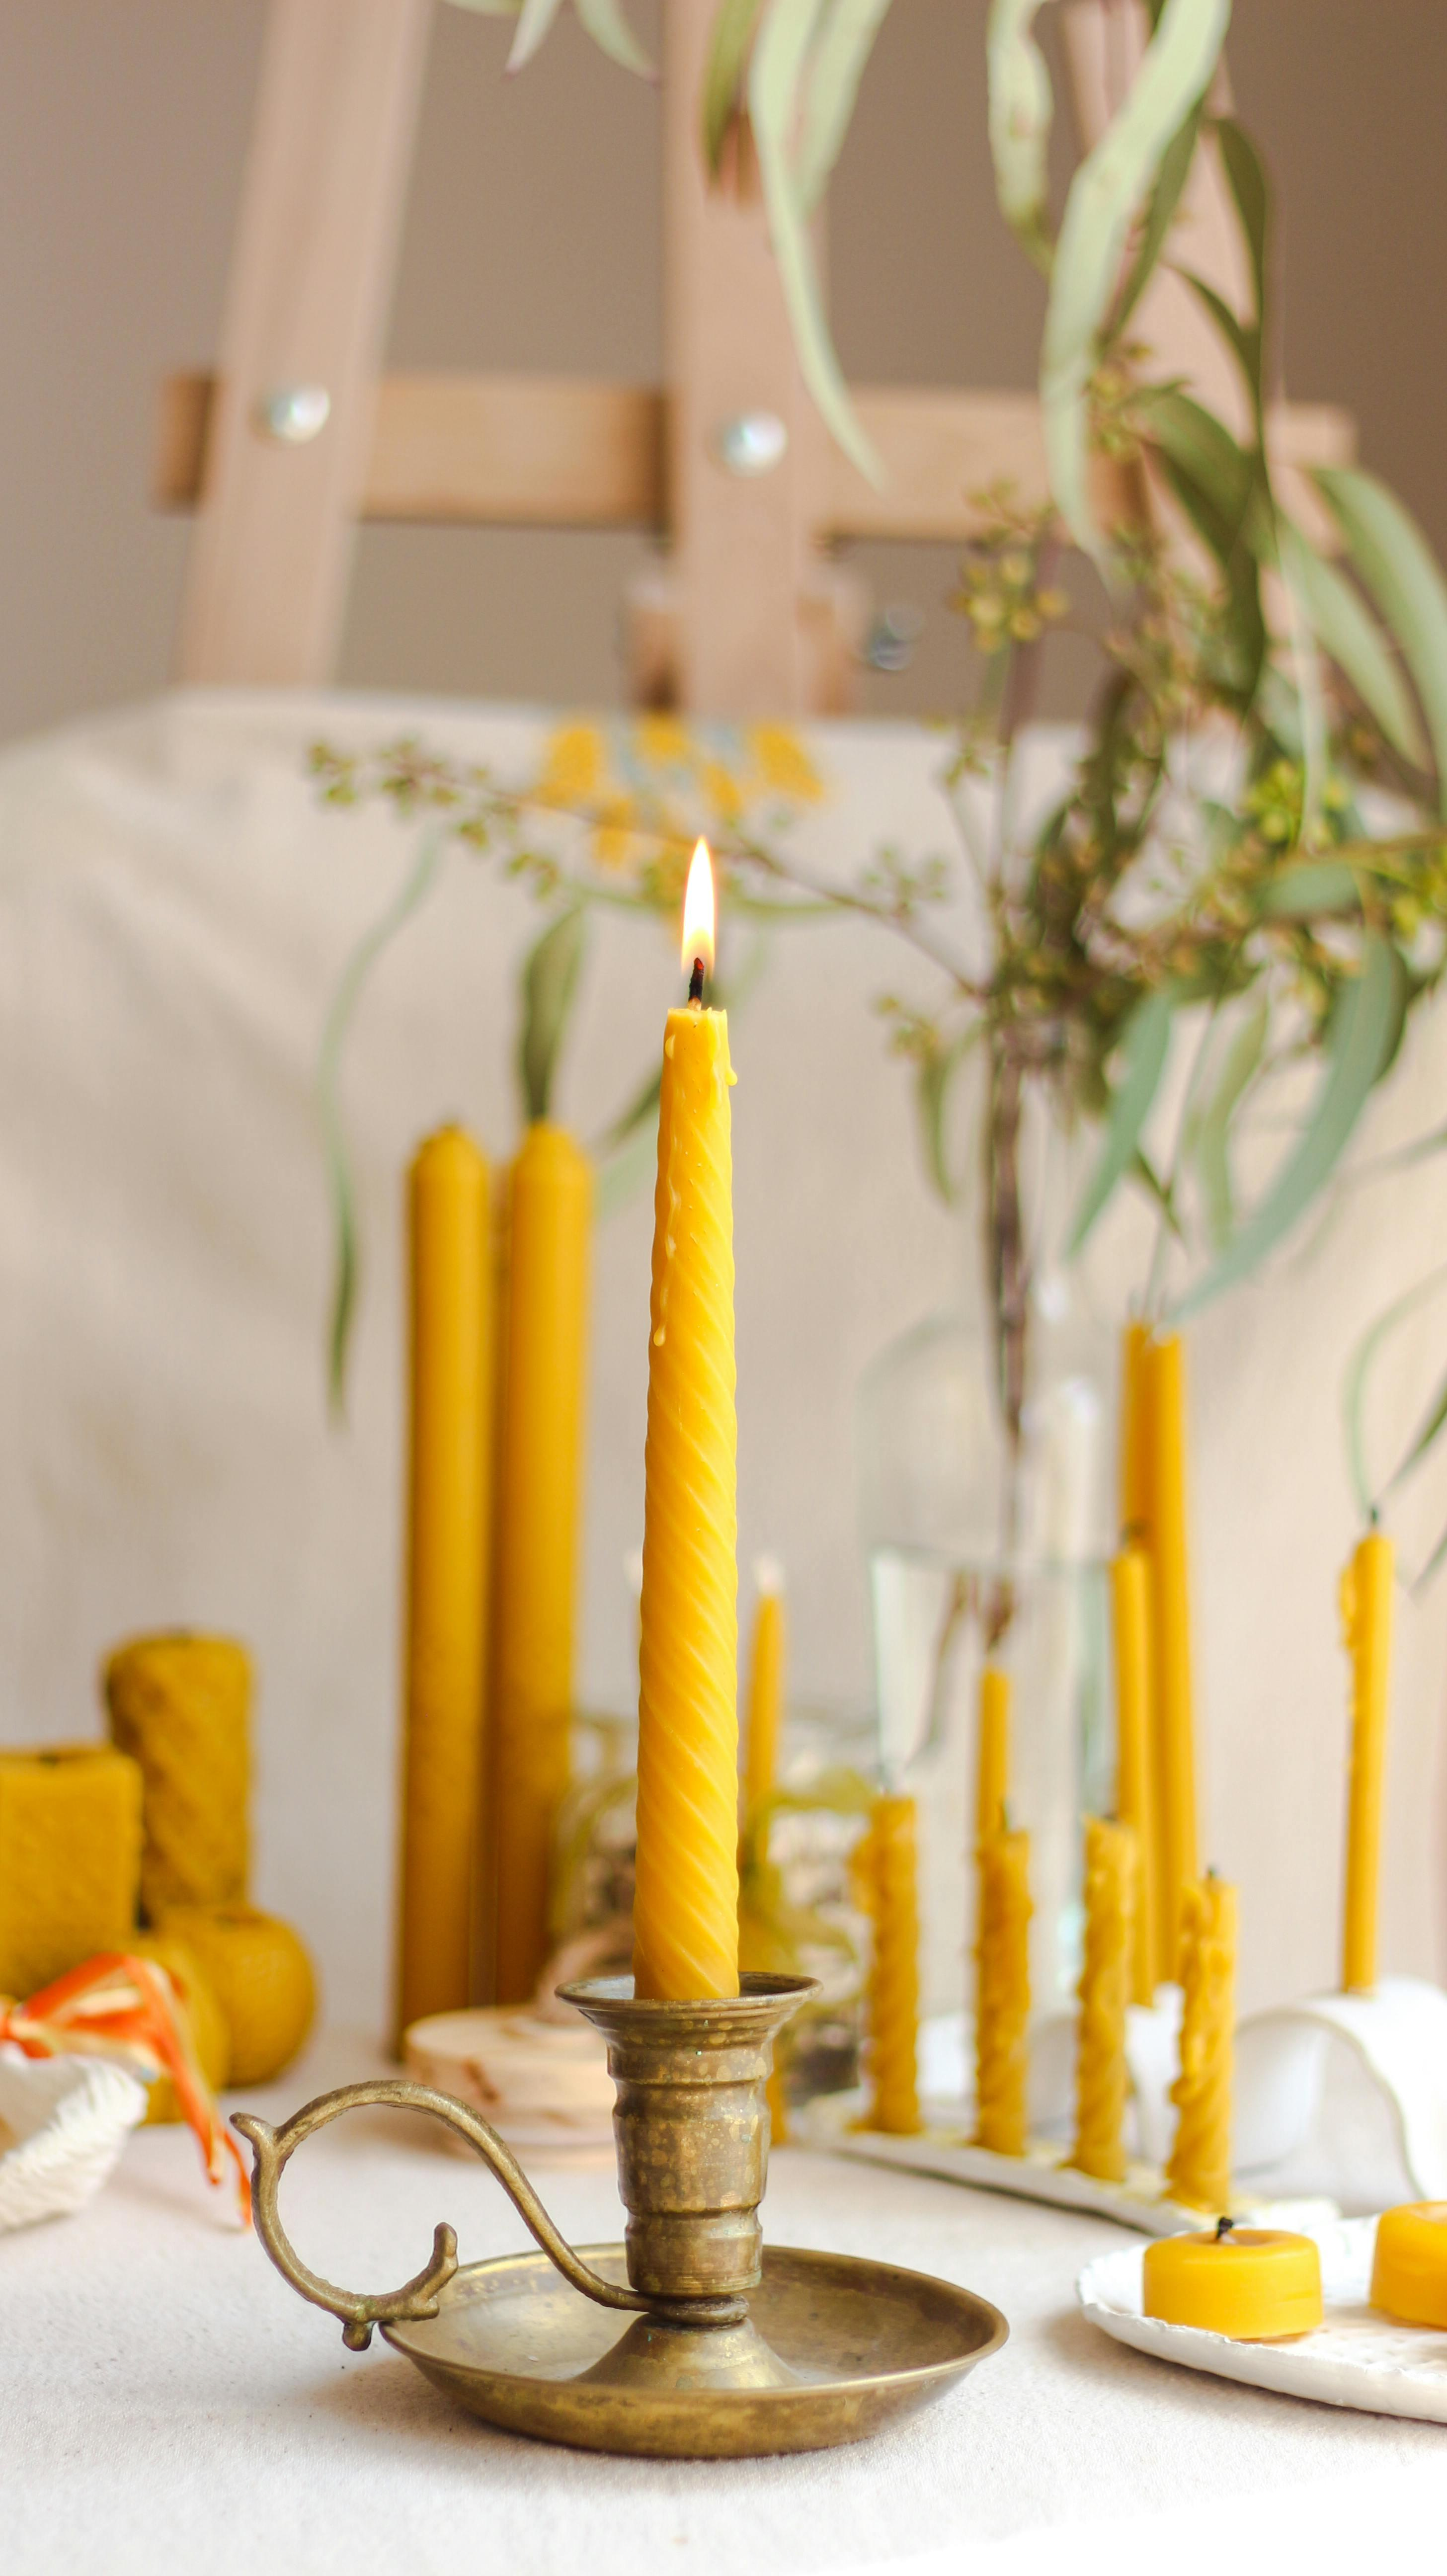Fire: (667, 821, 752, 984)
